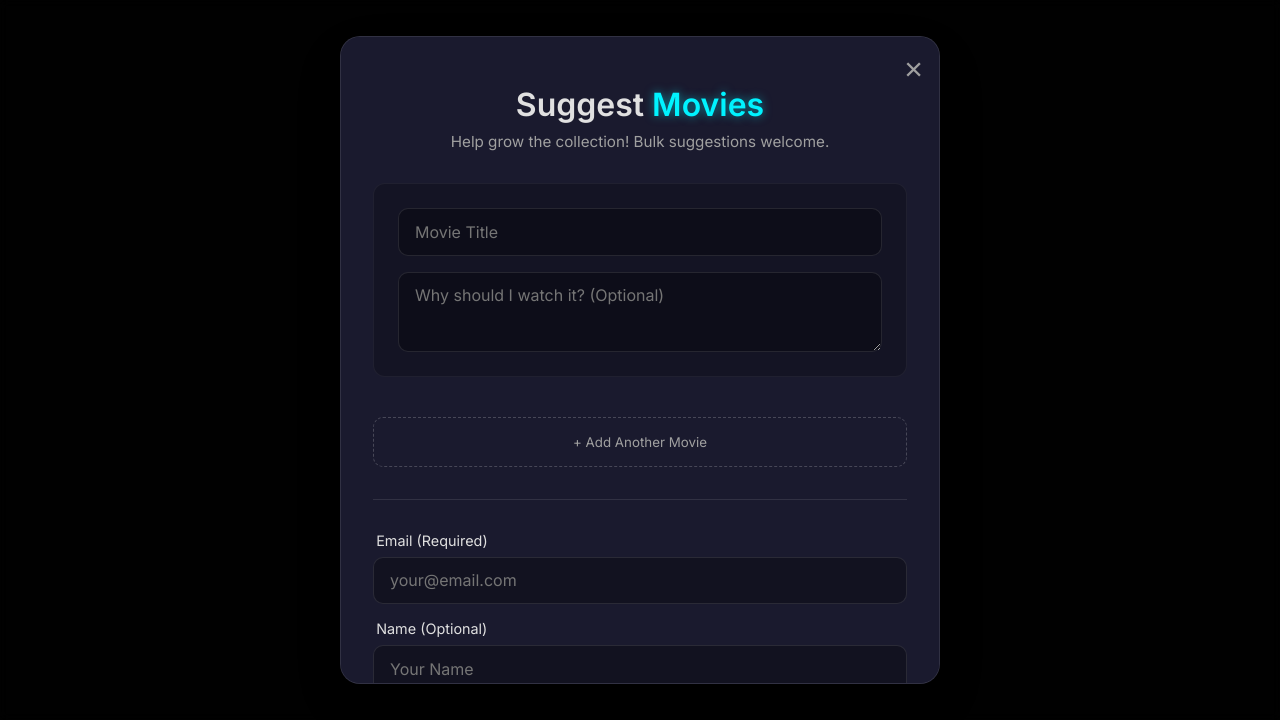
it: SuggestionForm Component › adds a new suggestion row when "Add Another Movie" is clicked
Click the button "+ Add Another Movie": point(640, 442) left=373, top=417, right=907, bottom=467
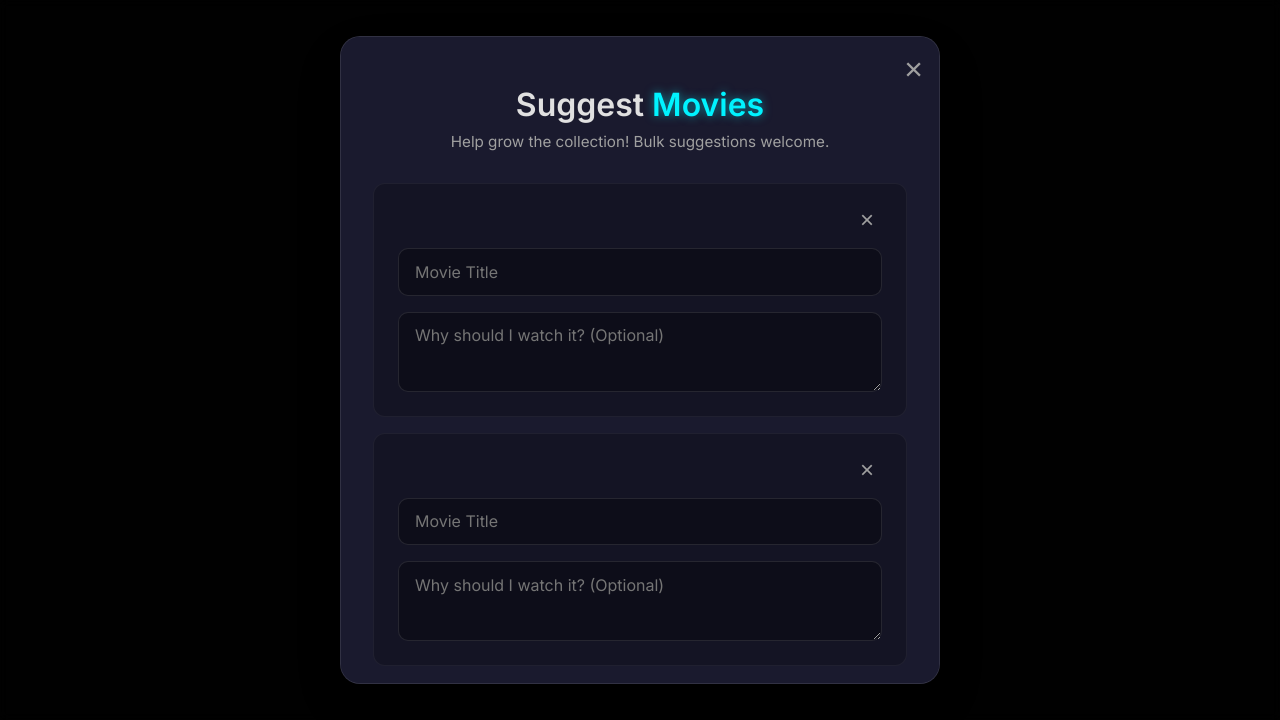
Result: the number of fields with placeholder "Movie Title" is 2 at left=398, top=248, right=882, bottom=296; left=398, top=498, right=882, bottom=545
